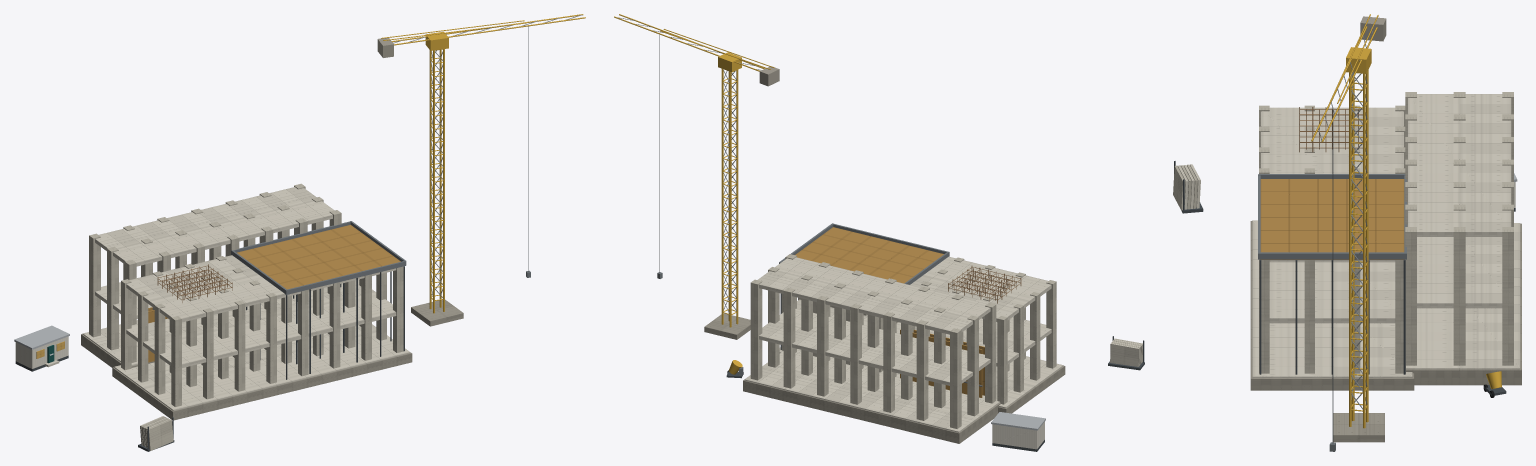
The model's file is fun-10-construction.glb.
3 renders of one model, left to right at view 1: azimuth 30°, elevation 25°; view 2: azimuth 150°, elevation 25°; view 3: azimuth 270°, elevation 25°, orthographic. The views are drawn at different scales.
Bounding box in the file's own units: 59.8 × 32.55 × 26.62.
Materials: 24 (15 with a texture image).
